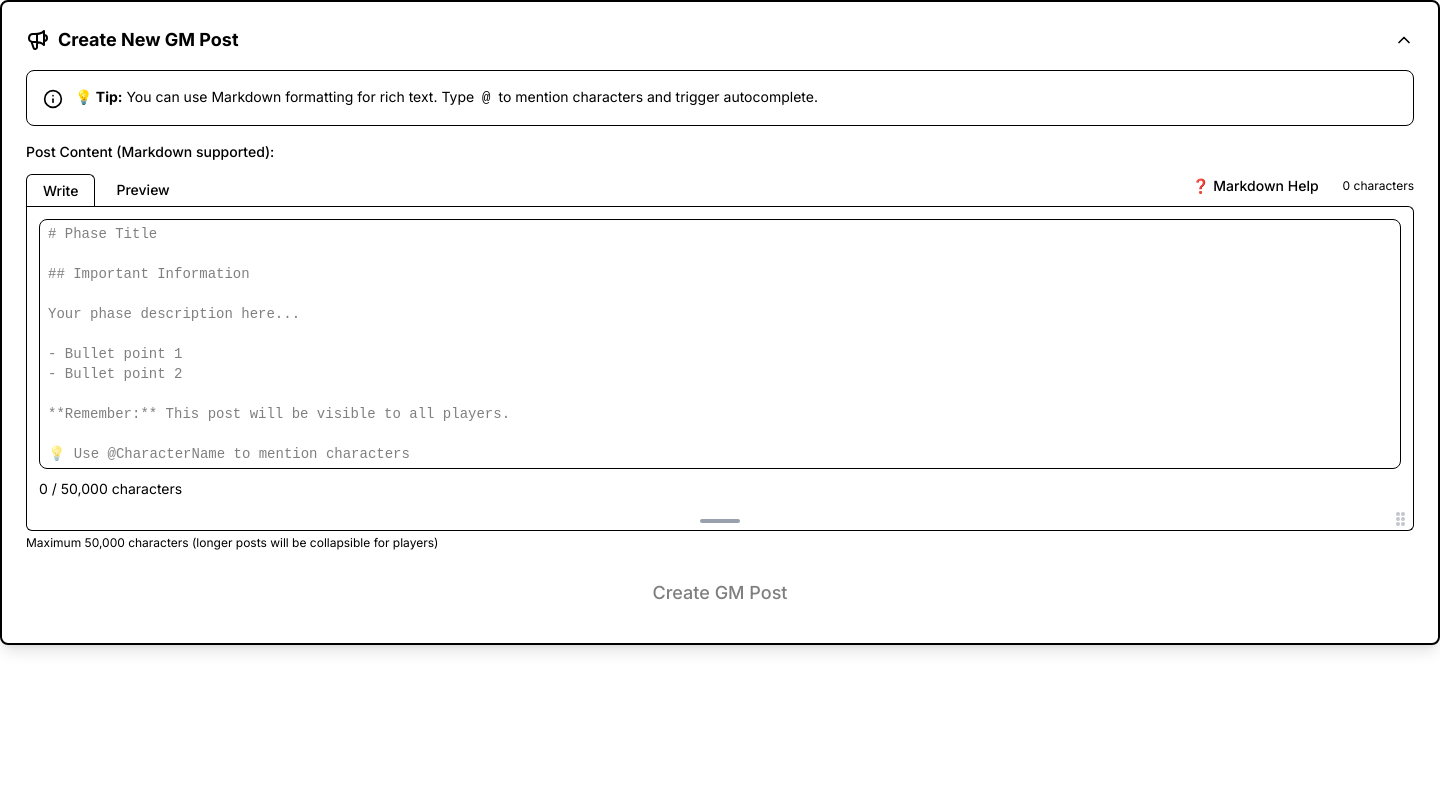
Test: CreatePostForm › Error Handling › shows custom error message from Error object
Type "Test content" into the text box labelled "Post Content (Markdown supported):".
click(720, 344); type("Test content")  # box x1=39 y1=219 x2=1401 y2=469
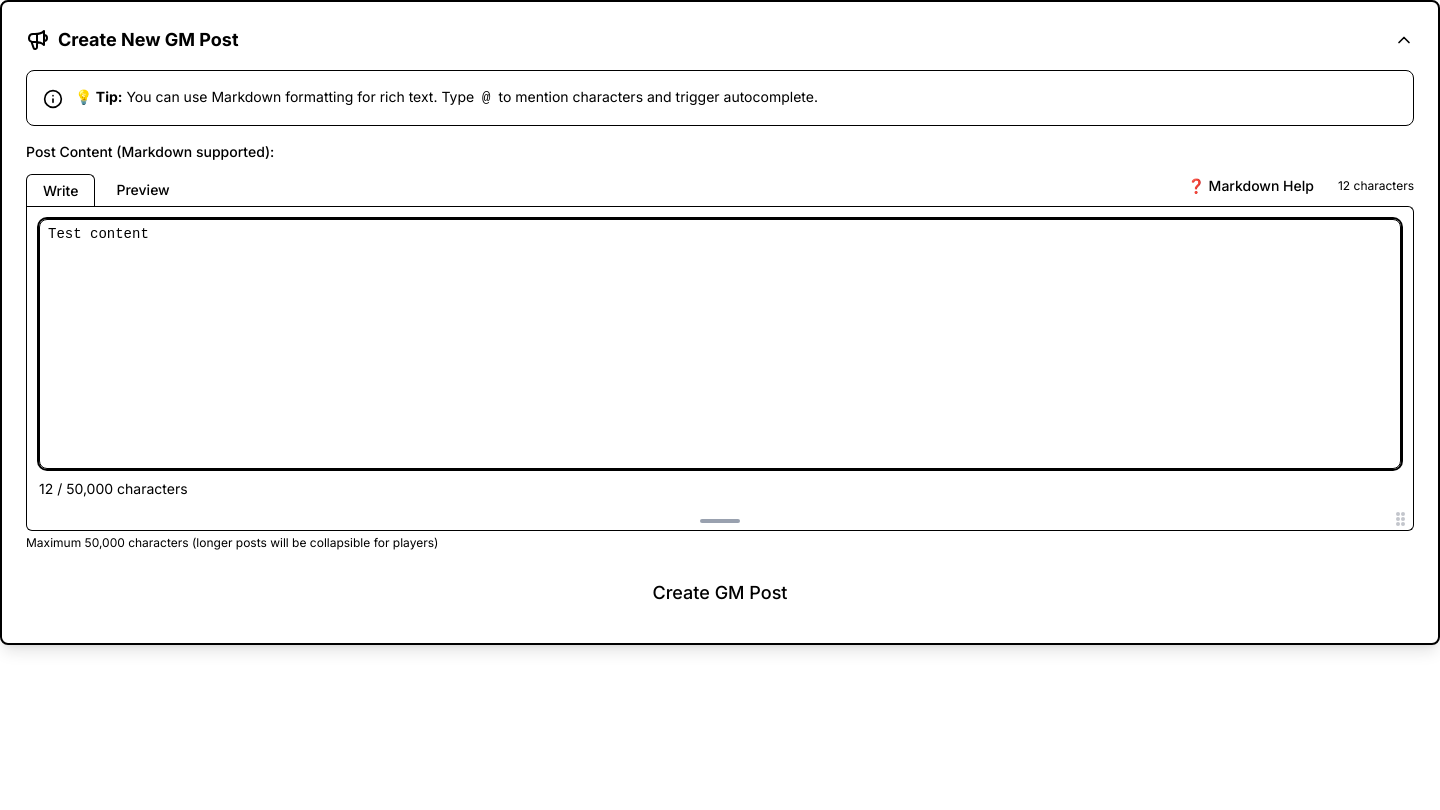
Click the button "Create GM Post".
click(720, 593)  # box x1=26 y1=567 x2=1414 y2=619
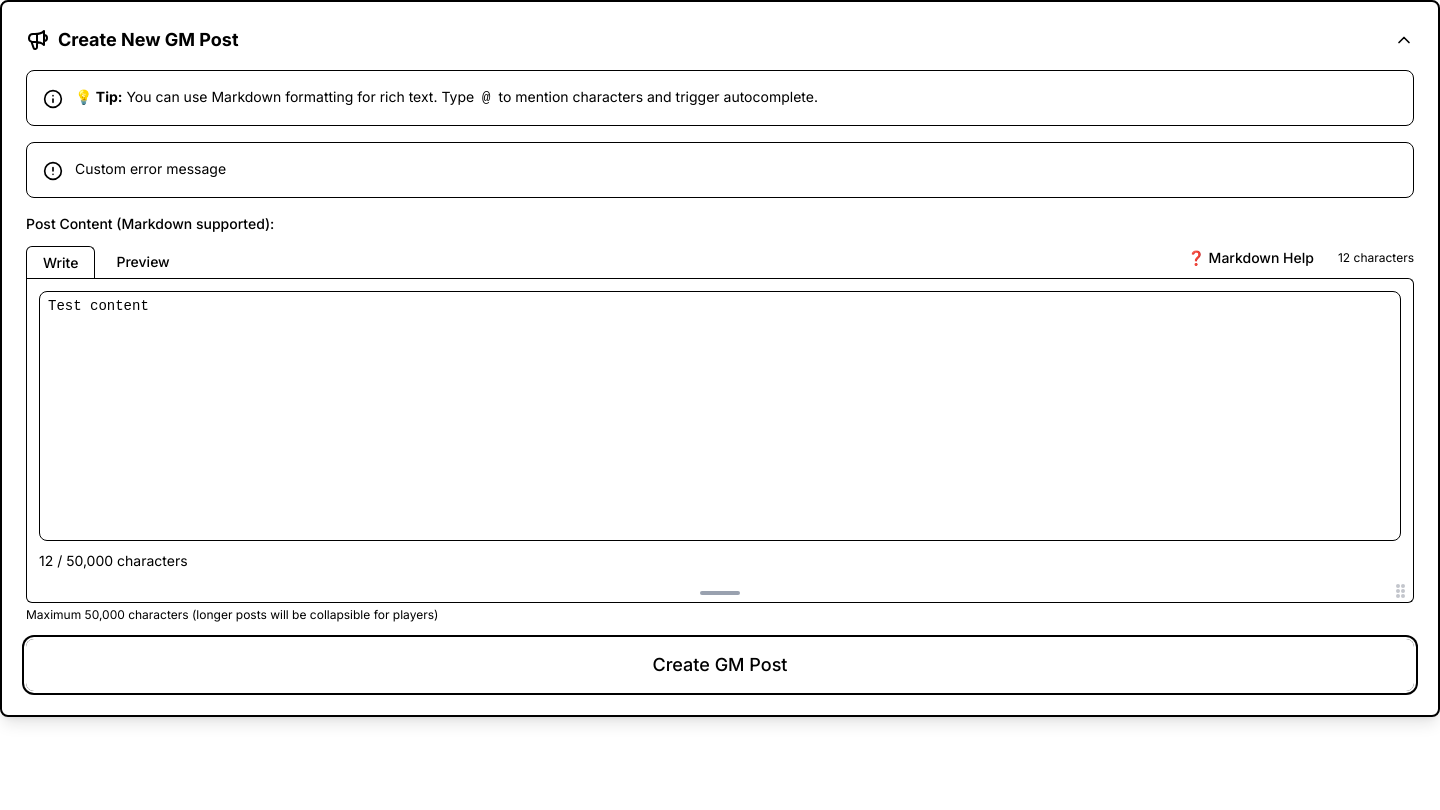
Now the text "Custom error message" is shown, box x1=75 y1=160 x2=226 y2=177
